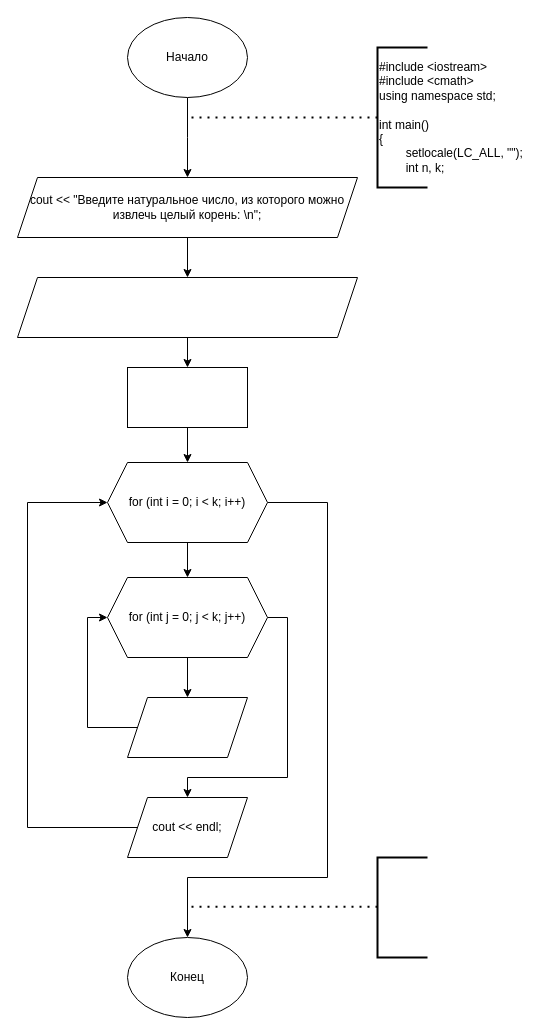
This 541x1035 diagram has some shape labels left out. The shapes that lost their labels are listed below. From the top down, each one's centre as x and y in pixels, then its label:
(187,307): cin >> n;
(187,397): k = sqrt(n);
(187,727): cout << "* ";
(402,907): return 0; }
